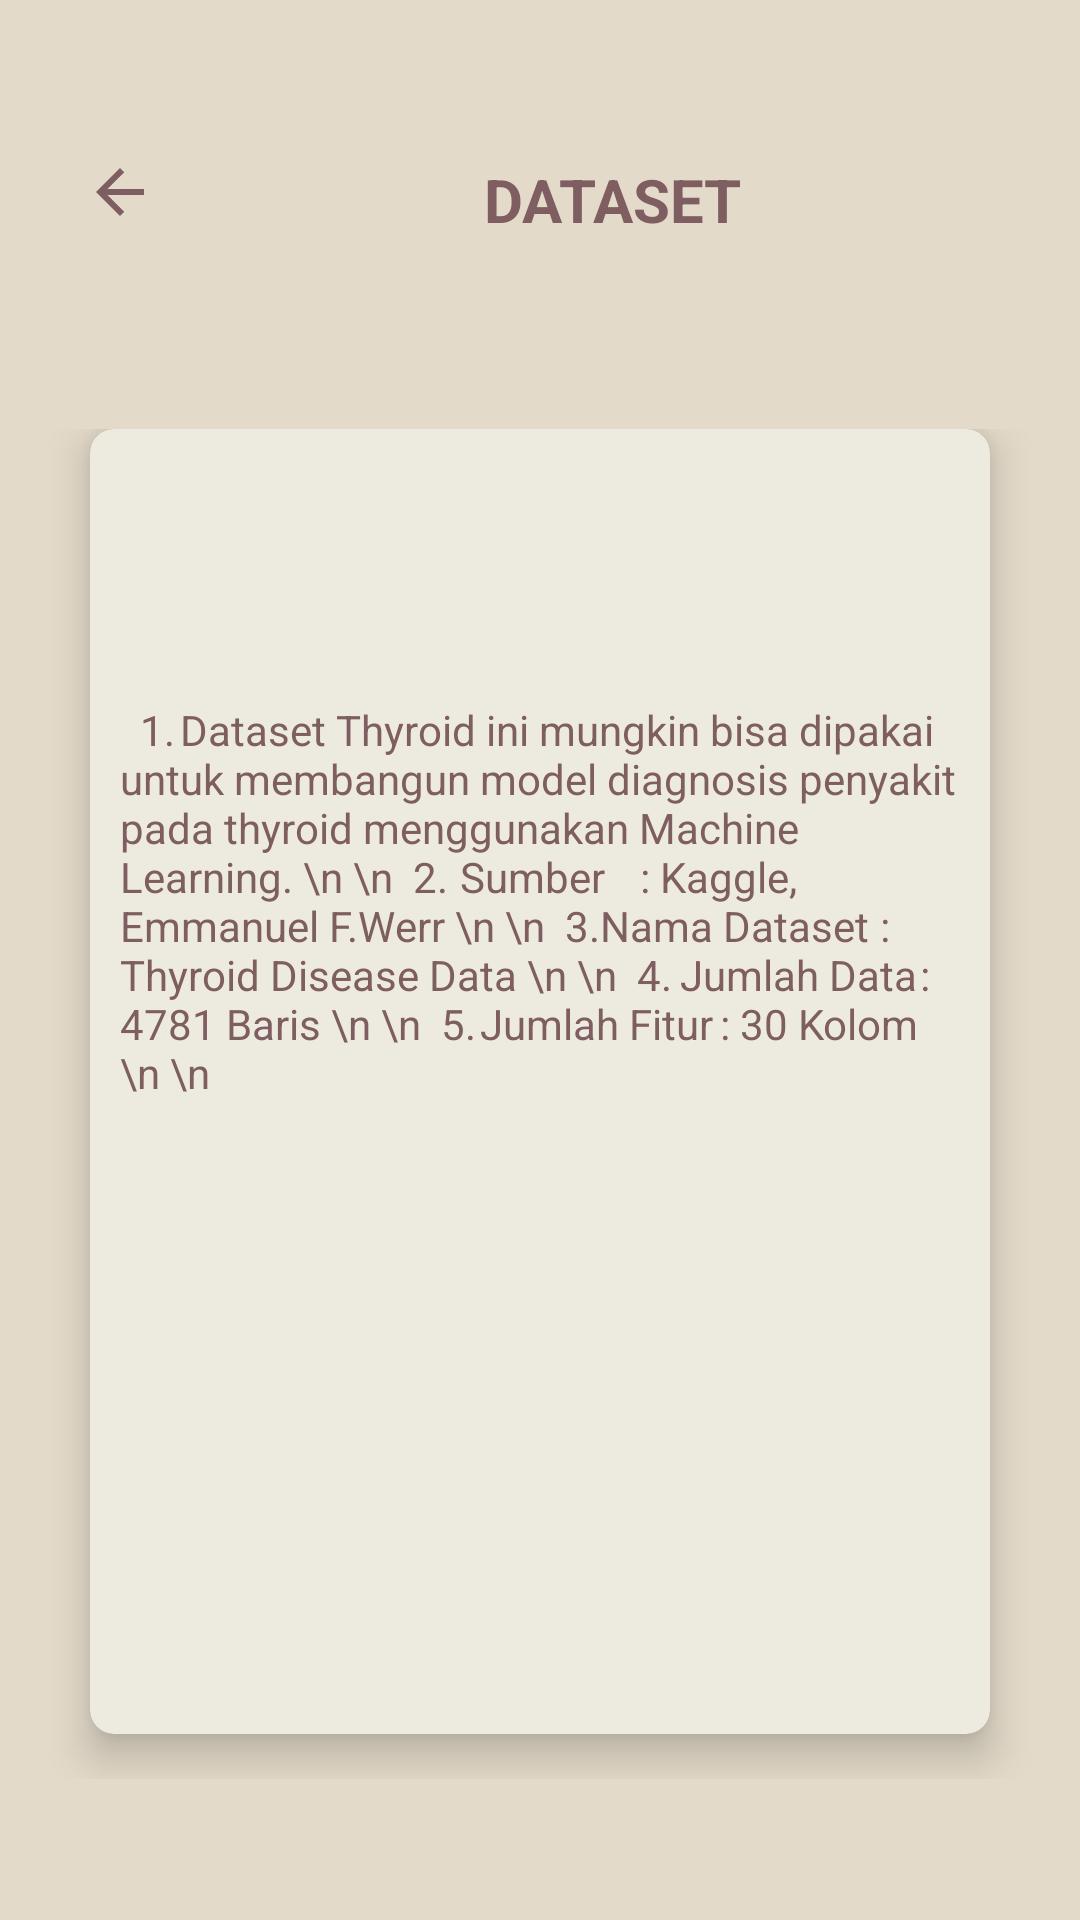

Where icons sit on this 1080px x 1920px app screen, as (x1, y1, x2, y2):
back: (96, 168, 144, 216)
